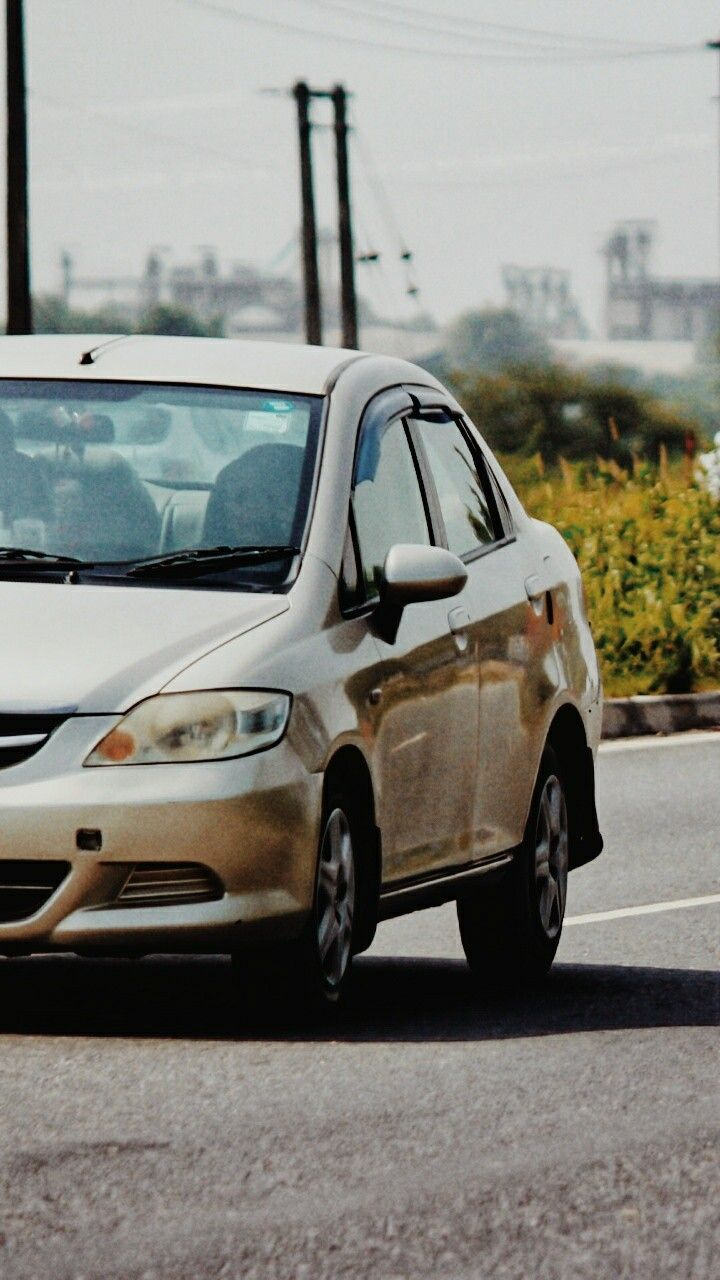Car: (2, 319, 621, 1031)
